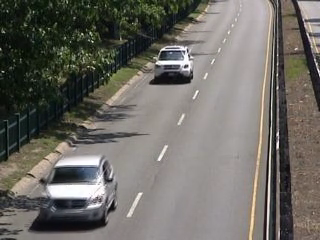car: (37, 152, 119, 228), (153, 41, 198, 88)
